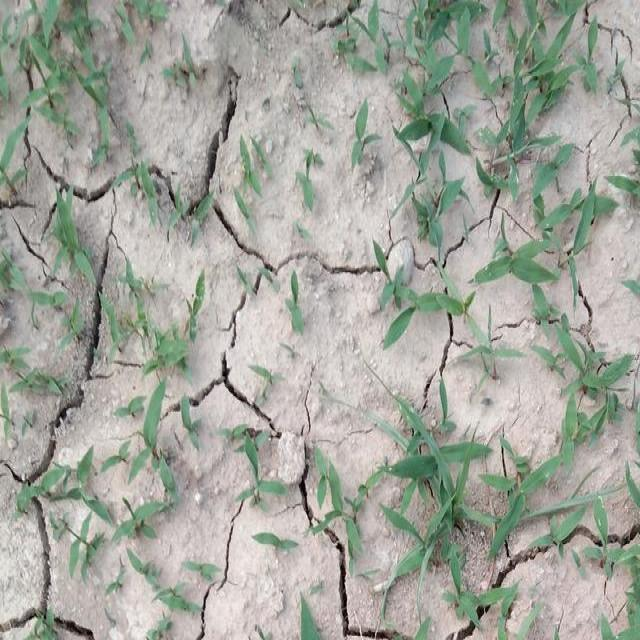weed: (398, 5, 572, 178), (364, 372, 483, 592), (490, 456, 640, 576), (27, 449, 162, 561), (552, 319, 620, 443), (372, 256, 471, 334), (489, 216, 550, 304), (52, 196, 95, 294)
